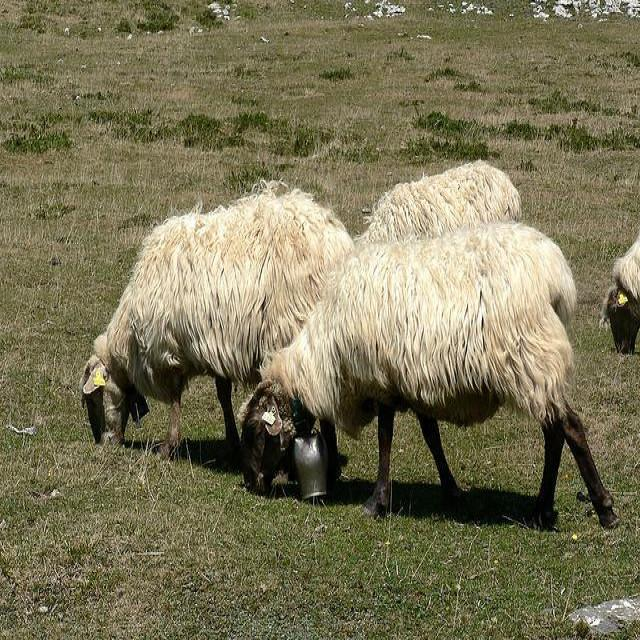Sheep: (241, 220, 623, 533), (83, 184, 353, 457), (353, 161, 525, 244), (596, 233, 639, 356)
